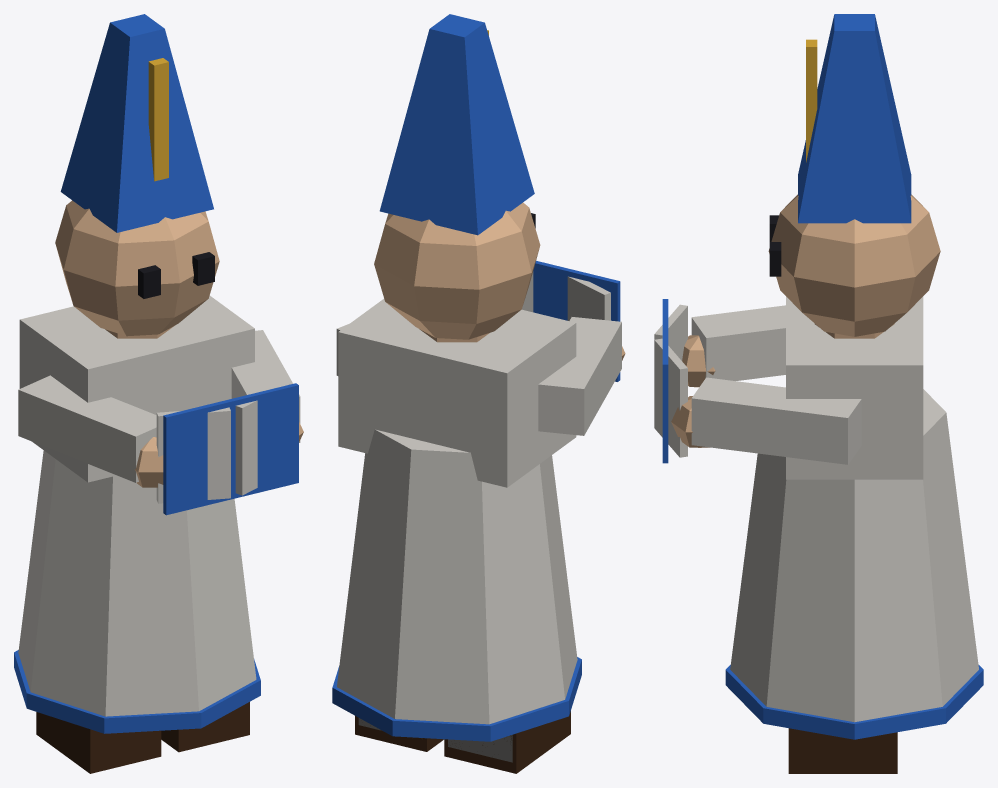
File: u_cleric.fbx
3 renders of one model, left to right at view 1: azimuth 30°, elevation 25°; view 2: azimuth 150°, elevation 25°; view 3: azimuth 270°, elevation 25°, orthographic.
Parts seen in each view (by area): view 1: u_cleric_Body, u_cleric_LegR, u_cleric_LegL; view 2: u_cleric_Body, u_cleric_LegR, u_cleric_LegL; view 3: u_cleric_Body, u_cleric_LegL.
Part boxes in pixels (x1,y1,x2,y2): u_cleric_Body: [14, 14, 303, 733]; u_cleric_LegR: [36, 712, 161, 773]; u_cleric_LegL: [161, 702, 249, 752]; u_cleric_Body: [332, 14, 625, 741]; u_cleric_LegR: [444, 711, 570, 773]; u_cleric_LegL: [355, 716, 443, 751]; u_cleric_Body: [654, 14, 983, 739]; u_cleric_LegL: [788, 728, 897, 773].
Size of the model in its own units: 0.4977 by 1.37 by 0.5743.
